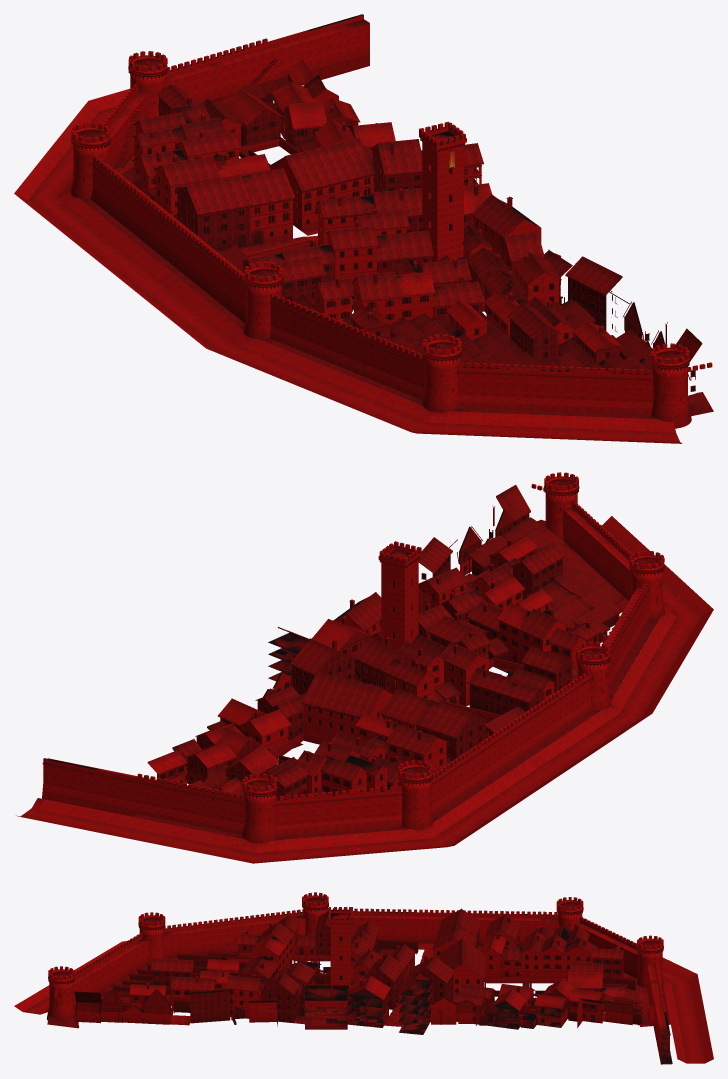
The model's file is ovest.gltf.
3 renders of one model, top to bottom at view 1: azimuth 30°, elevation 25°; view 2: azimuth 150°, elevation 25°; view 3: azimuth 270°, elevation 25°, orthographic. The views are drawn at different scales.
Visible parts, largest first — view 1: Zona_ovest_-3_-3, Zona_ovest_-4_-1, Zona_ovest_-2_-1, Zona_ovest_-4_1, Zona_ovest_-4_-2, Zona_ovest_-3_-2, Zona_ovest_-3_0, Zona_ovest_-4_0, Zona_ovest_-4_2, Zona_ovest_-3_-1, Zona_ovest_-2_-4, Zona_ovest_-2_-2 (+12 smaller); view 2: Zona_ovest_-4_2, Zona_ovest_-3_3, Zona_ovest_-4_1, Zona_ovest_-4_-1, Zona_ovest_-2_3, Zona_ovest_-4_0, Zona_ovest_-2_1, Zona_ovest_-3_2, Zona_ovest_-2_-1, Zona_ovest_-3_0, Zona_ovest_-3_1, Zona_ovest_-3_-3 (+11 smaller); view 3: Zona_ovest_-2_-1, Zona_ovest_-2_0, Zona_ovest_-2_1, Zona_ovest_-2_-2, Zona_ovest_-3_2, Zona_ovest_-3_1, Zona_ovest_-2_2, Zona_ovest_-3_-3, Zona_ovest_-2_-3, Zona_ovest_-3_3, Zona_ovest_-4_0, Zona_ovest_-2_3 (+10 smaller).
Part boxes in pixels (<box>): Zona_ovest_-3_-3: <box>435,313,612,437</box>; Zona_ovest_-4_-1: <box>187,256,362,374</box>; Zona_ovest_-2_-1: <box>419,122,561,313</box>; Zona_ovest_-4_1: <box>57,154,235,280</box>; Zona_ovest_-4_-2: <box>259,306,421,415</box>; Zona_ovest_-3_-2: <box>364,276,540,363</box>; Zona_ovest_-3_0: <box>227,178,409,259</box>; Zona_ovest_-4_0: <box>116,200,297,327</box>; Zona_ovest_-4_2: <box>14,116,165,232</box>; Zona_ovest_-3_-1: <box>309,226,471,313</box>; Zona_ovest_-2_-4: <box>612,339,713,443</box>; Zona_ovest_-2_-2: <box>485,252,624,345</box>; Zona_ovest_-4_2: <box>339,755,496,852</box>; Zona_ovest_-3_3: <box>186,773,333,863</box>; Zona_ovest_-4_1: <box>405,703,558,822</box>; Zona_ovest_-4_-1: <box>511,624,667,737</box>; Zona_ovest_-2_3: <box>83,759,239,851</box>; Zona_ovest_-4_0: <box>485,676,610,778</box>; Zona_ovest_-2_1: <box>207,654,341,763</box>; Zona_ovest_-3_2: <box>234,732,388,835</box>; Zona_ovest_-2_-1: <box>333,541,466,649</box>; Zona_ovest_-3_0: <box>375,641,504,723</box>; Zona_ovest_-3_1: <box>321,677,446,764</box>; Zona_ovest_-3_-3: <box>529,515,684,617</box>; Zona_ovest_-2_-1: <box>261,907,355,1029</box>; Zona_ovest_-2_0: <box>348,907,445,1034</box>; Zona_ovest_-2_1: <box>437,954,535,1029</box>; Zona_ovest_-2_-2: <box>170,965,265,1025</box>; Zona_ovest_-3_2: <box>527,925,623,996</box>; Zona_ovest_-3_1: <box>439,921,535,996</box>; Zona_ovest_-2_2: <box>528,972,624,1028</box>; Zona_ovest_-3_-3: <box>78,918,172,994</box>; Zona_ovest_-2_-3: <box>80,968,175,1024</box>; Zona_ovest_-3_3: <box>617,935,701,1003</box>; Zona_ovest_-4_0: <box>351,908,443,960</box>; Zona_ovest_-2_3: <box>617,969,709,1042</box>.
Size of the model in its own units: 92.28 by 30.3 by 194.
Materials: 35 (30 with a texture image).
